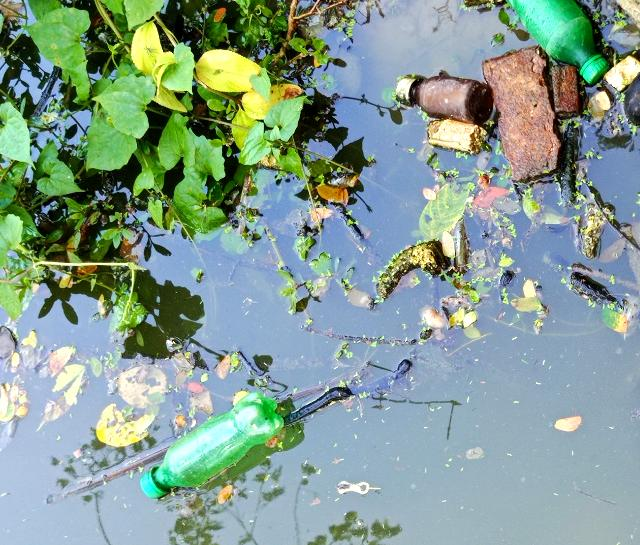bottle: (128, 377, 296, 518), (504, 0, 627, 88), (398, 44, 503, 130)
